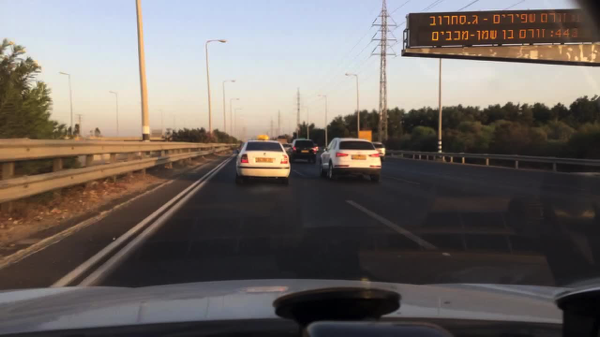car: (318, 136, 382, 183), (234, 134, 289, 186), (286, 140, 316, 165), (372, 141, 384, 162), (281, 143, 290, 150)
traffic sign: (406, 8, 599, 49)
